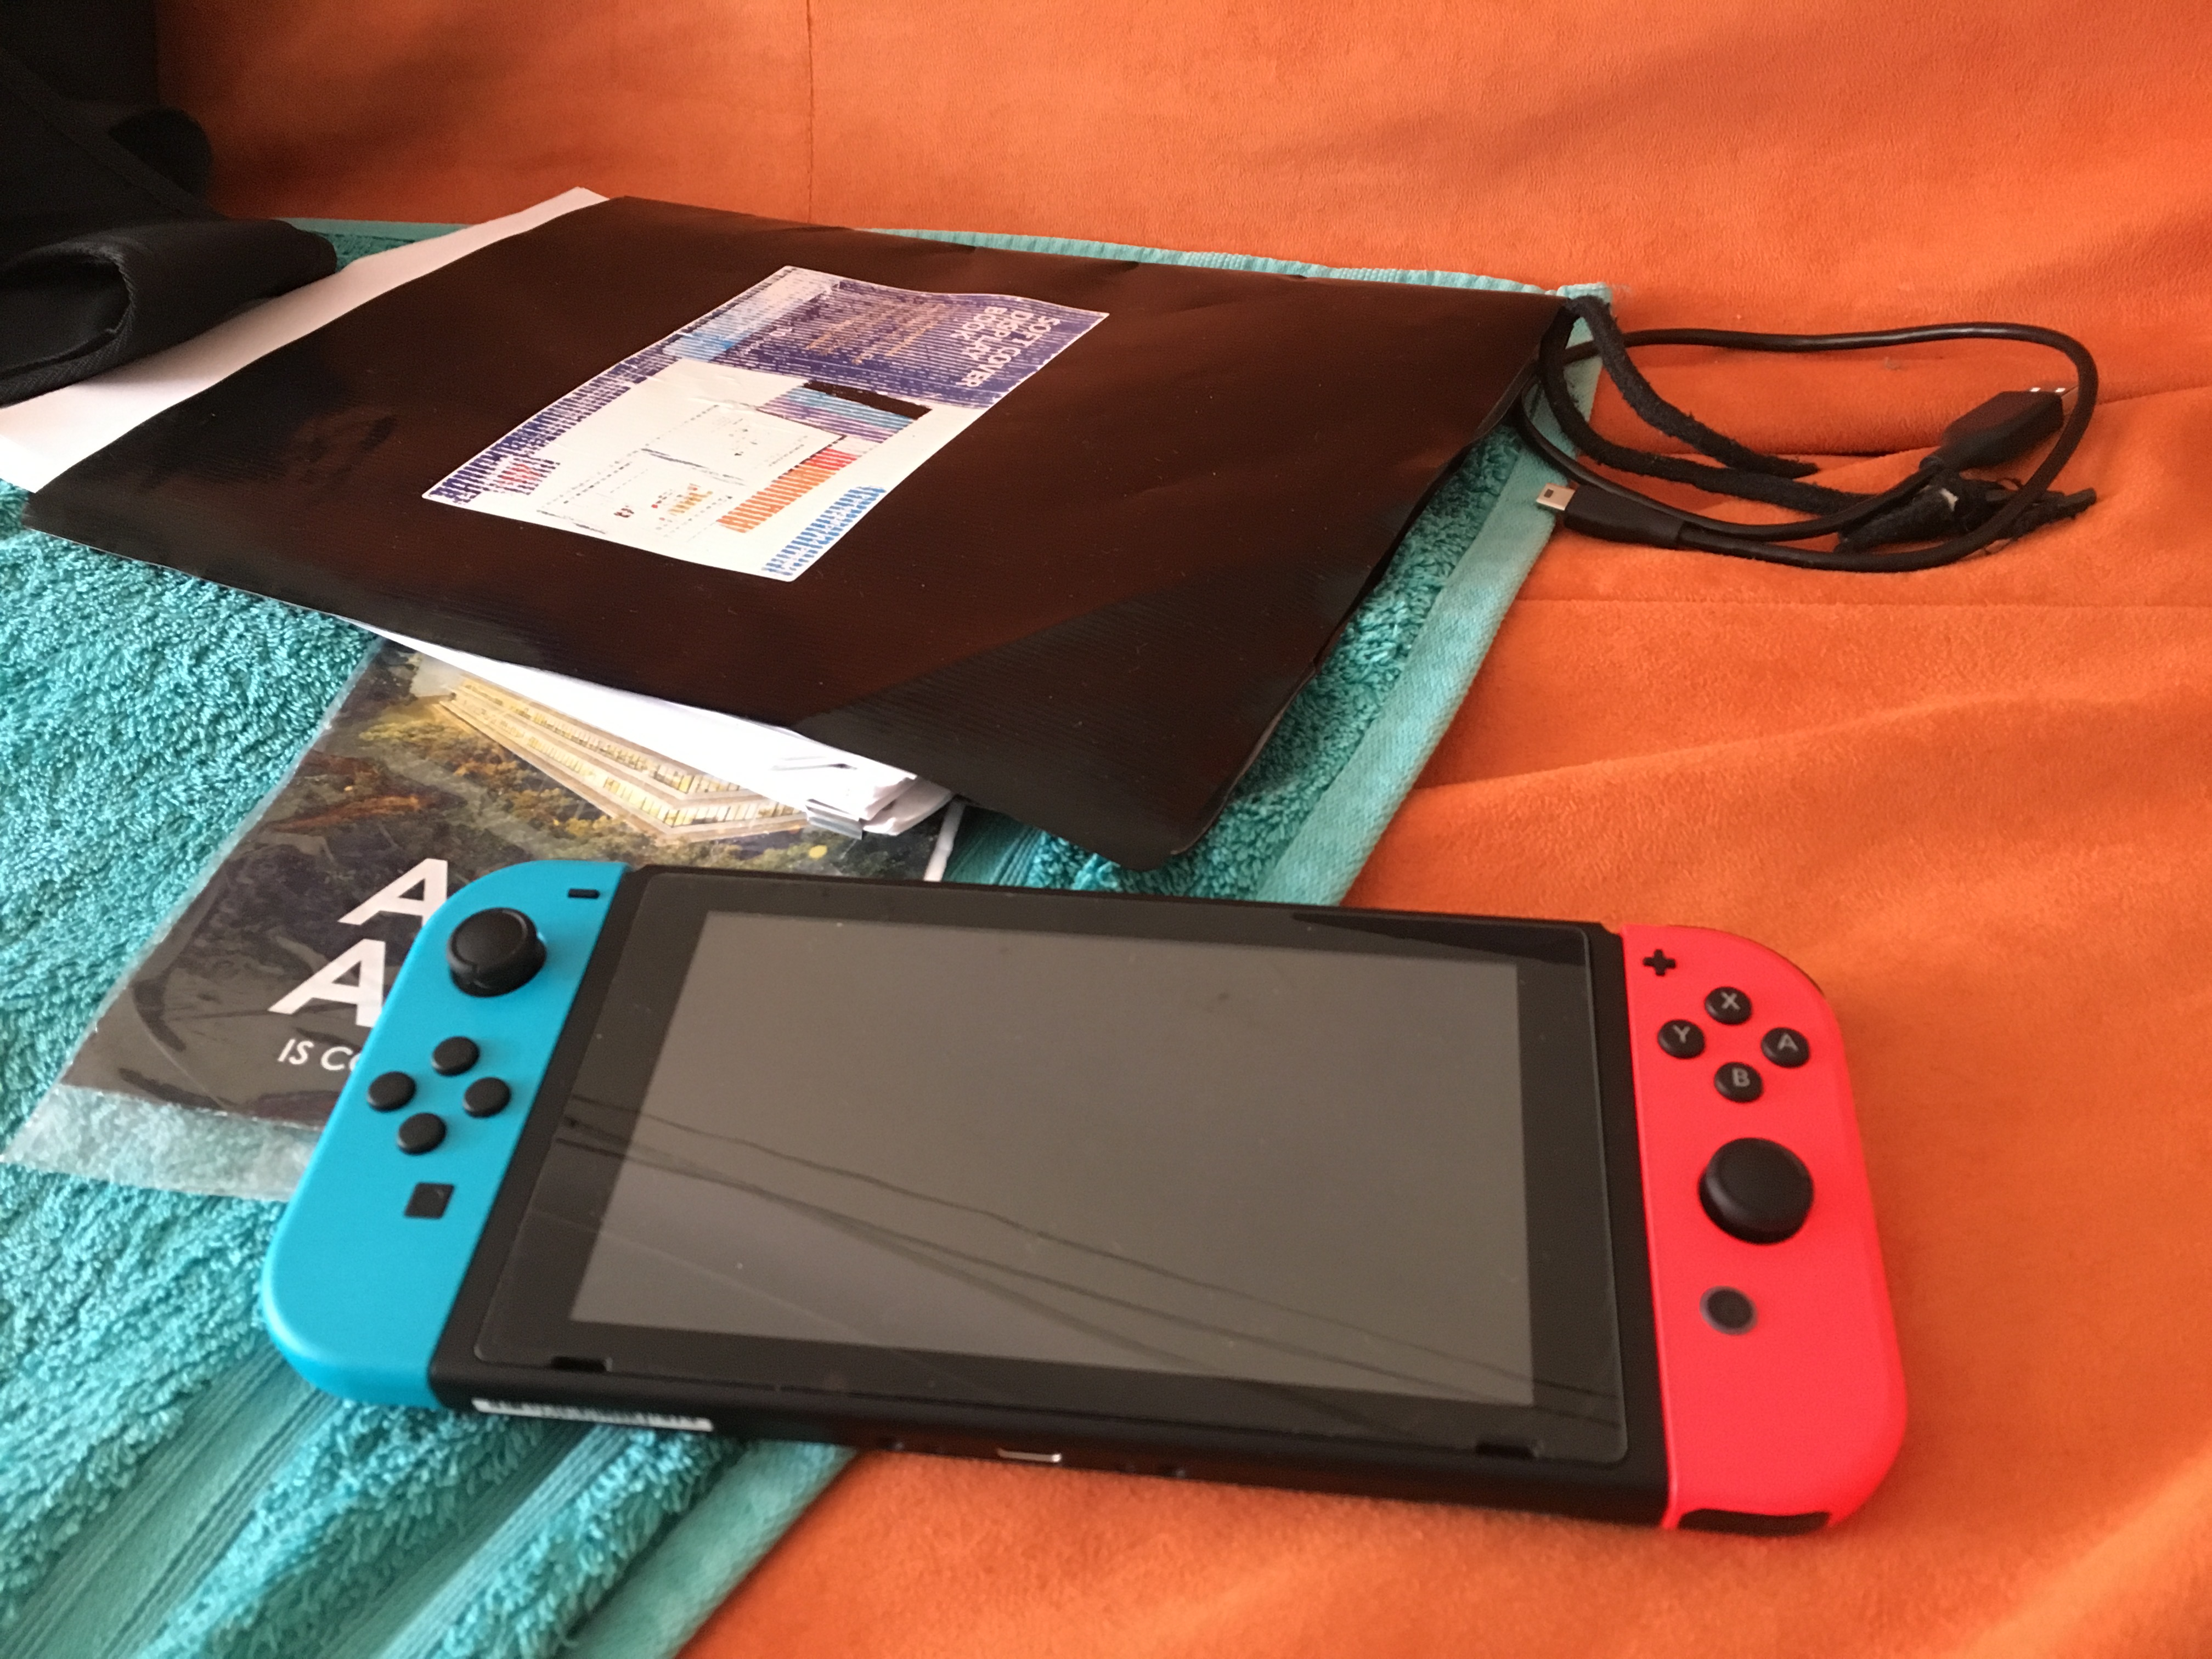NintendoSwitch: (249, 852, 1947, 1563)
